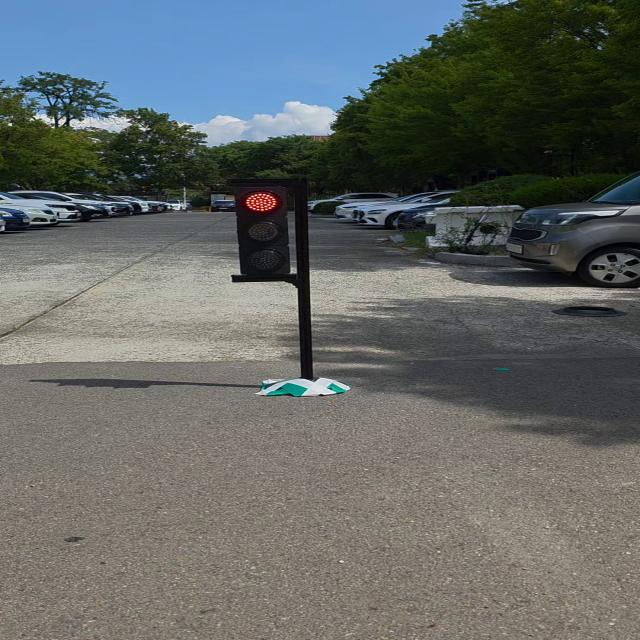red: (225, 178, 296, 282)
